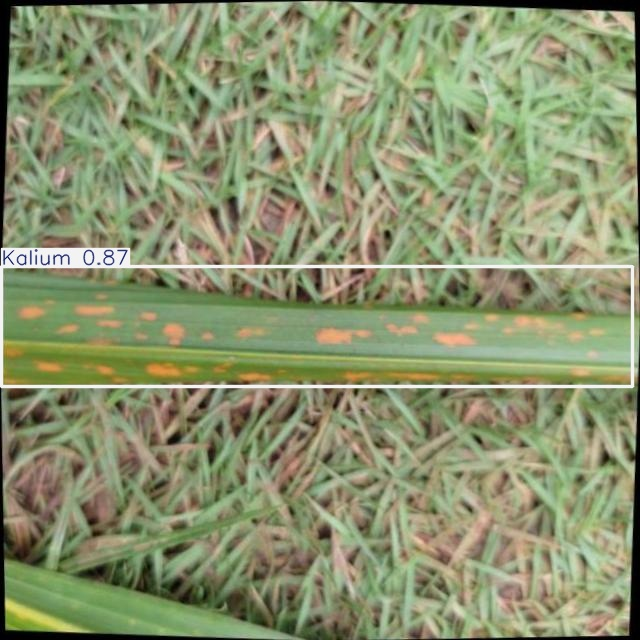Kalium: (2, 267, 633, 387)
